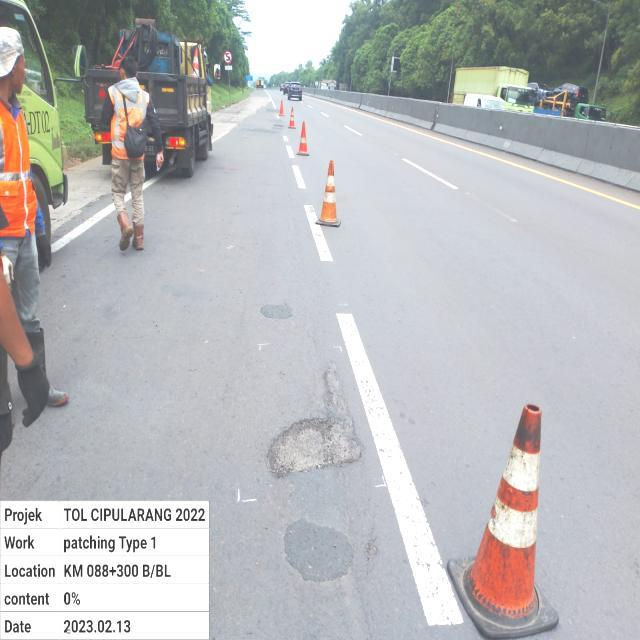Buraco: (264, 366, 367, 482), (271, 122, 286, 128)
